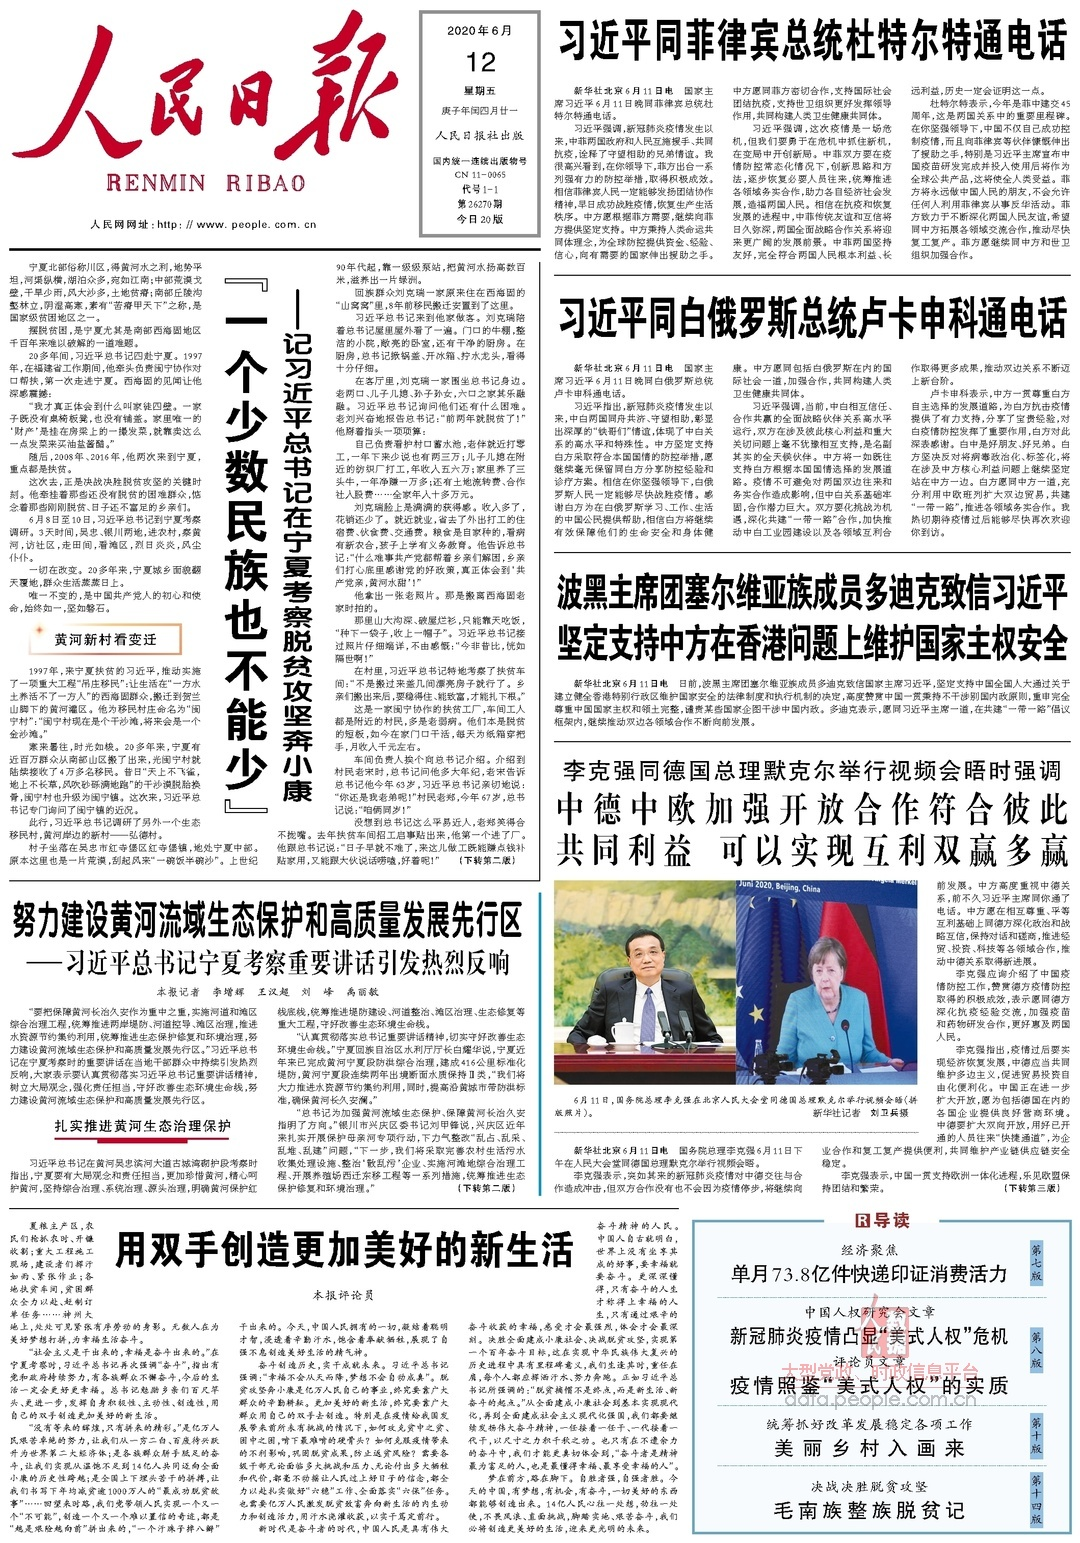pic: (550, 876, 921, 1093)
